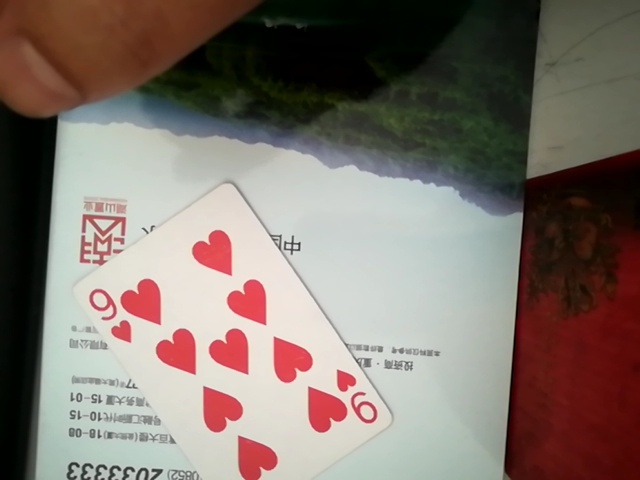hx 9: (69, 184, 409, 478)
